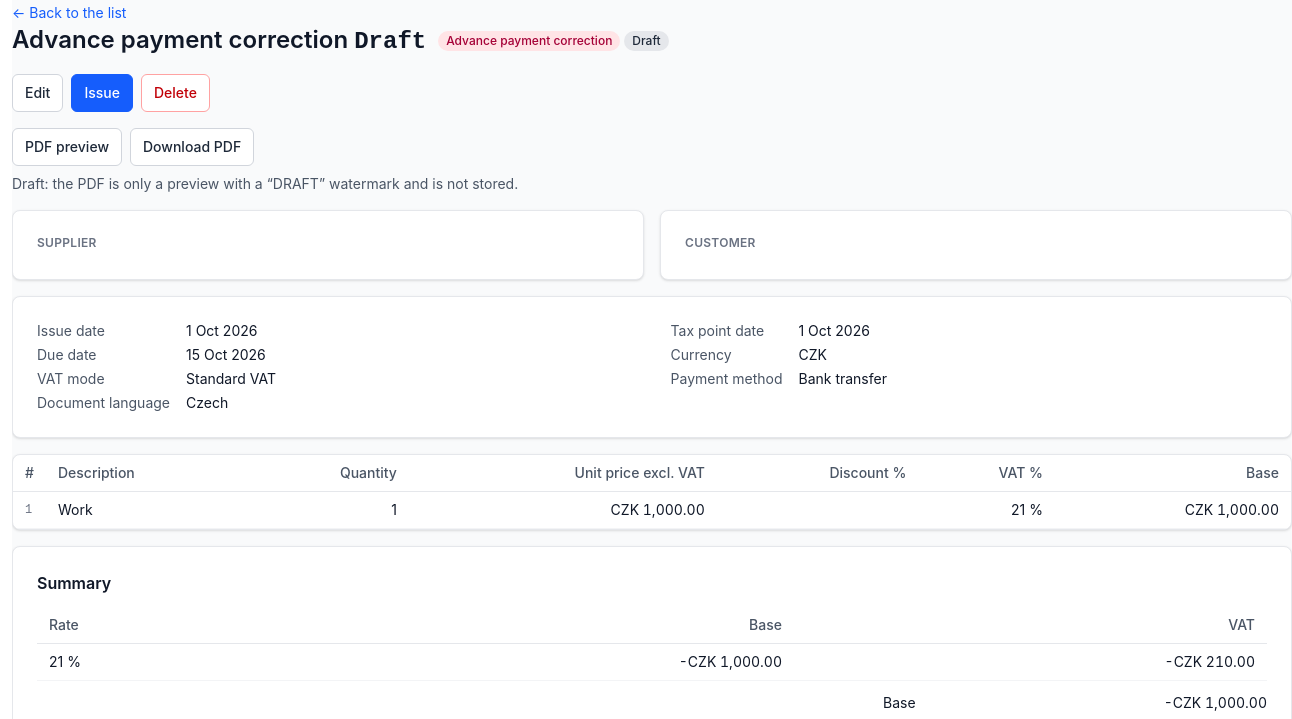
Test case: correction actions (1f-a) › issuing a DDPP correction draft refused with 409 advance_in_use
Click the button with test id "issue" at (102, 93), box [71,74,133,112]
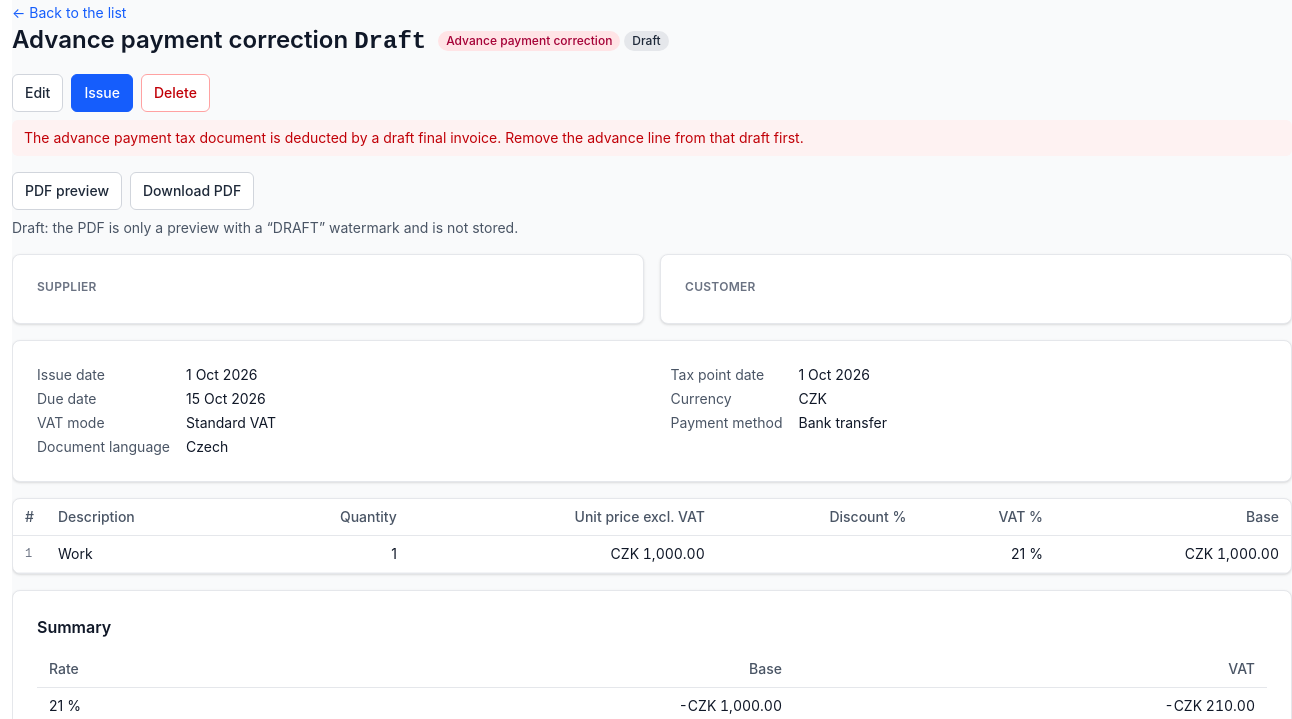
Result: the message with test id "action-error" shows "deducted by a draft final invoice" at [24,129,804,146]
